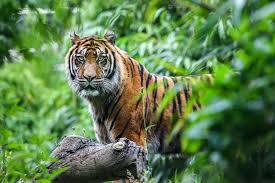Non_Gorille: (39, 11, 206, 159)
